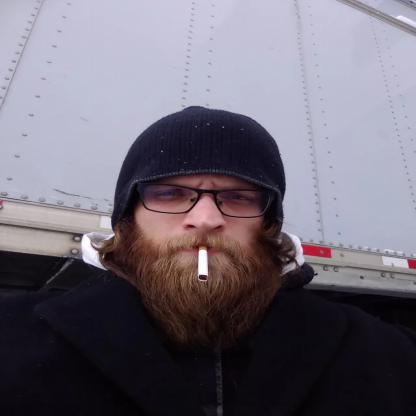cigarette: (193, 244, 214, 284)
person: (13, 92, 416, 416)
